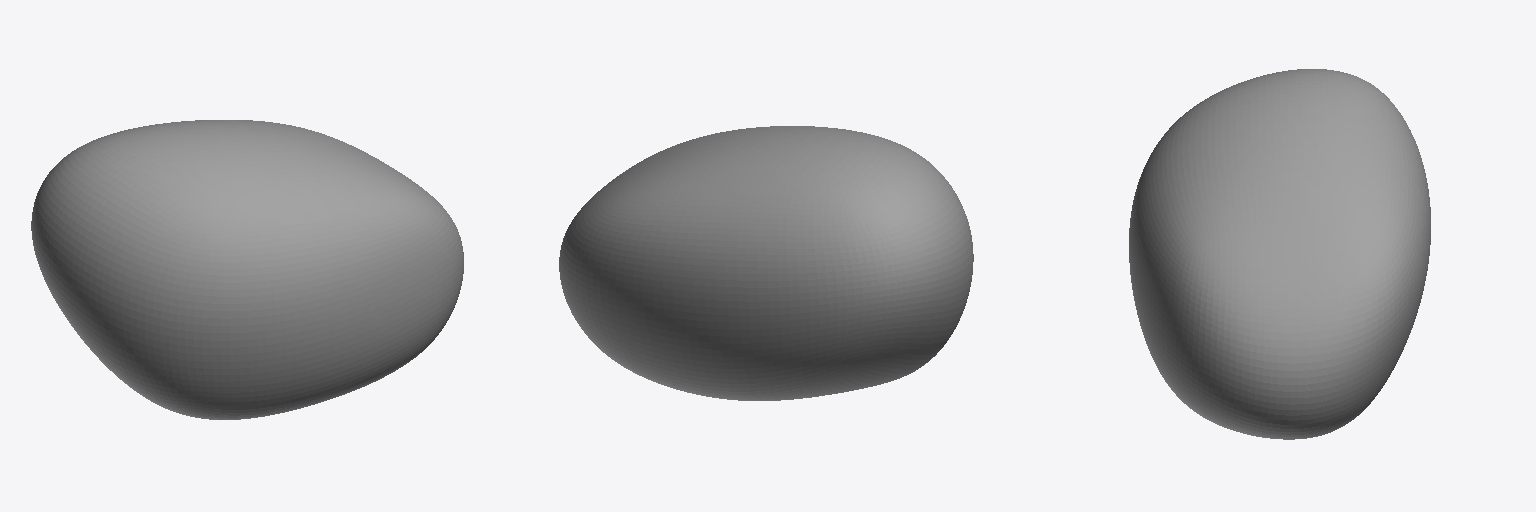
File: stone.obj
The picture shows the model from 3 angles: view 1: azimuth 30°, elevation 25°; view 2: azimuth 150°, elevation 25°; view 3: azimuth 270°, elevation 25°; orthographic projection.
Visible parts, largest first — view 1: Cube_Cube.002; view 2: Cube_Cube.002; view 3: Cube_Cube.002.
Part boxes in pixels (left/top/right/bottom): Cube_Cube.002: left=31, top=120, right=463, bottom=419; Cube_Cube.002: left=559, top=126, right=973, bottom=400; Cube_Cube.002: left=1129, top=69, right=1430, bottom=439.
Size of the model in its own units: 3.66 by 2.32 by 2.47.